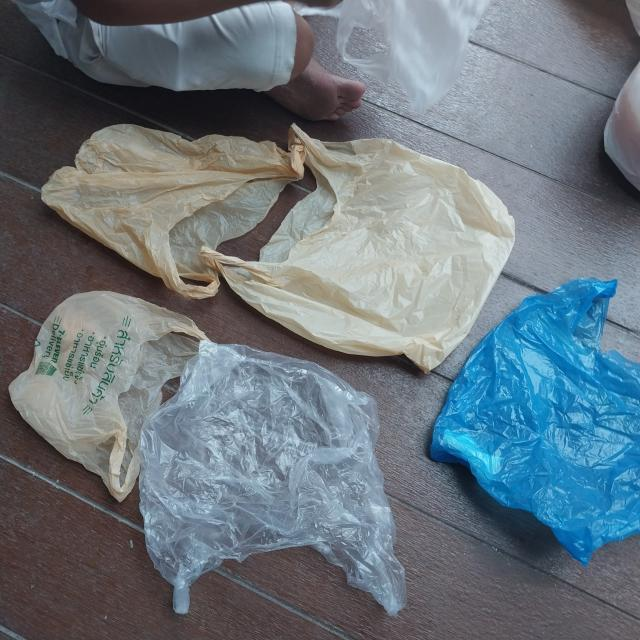Single-layer Plastic: (129, 336, 414, 617), (210, 117, 517, 375), (432, 268, 640, 560), (36, 121, 294, 298), (4, 284, 206, 508), (299, 0, 489, 111)
